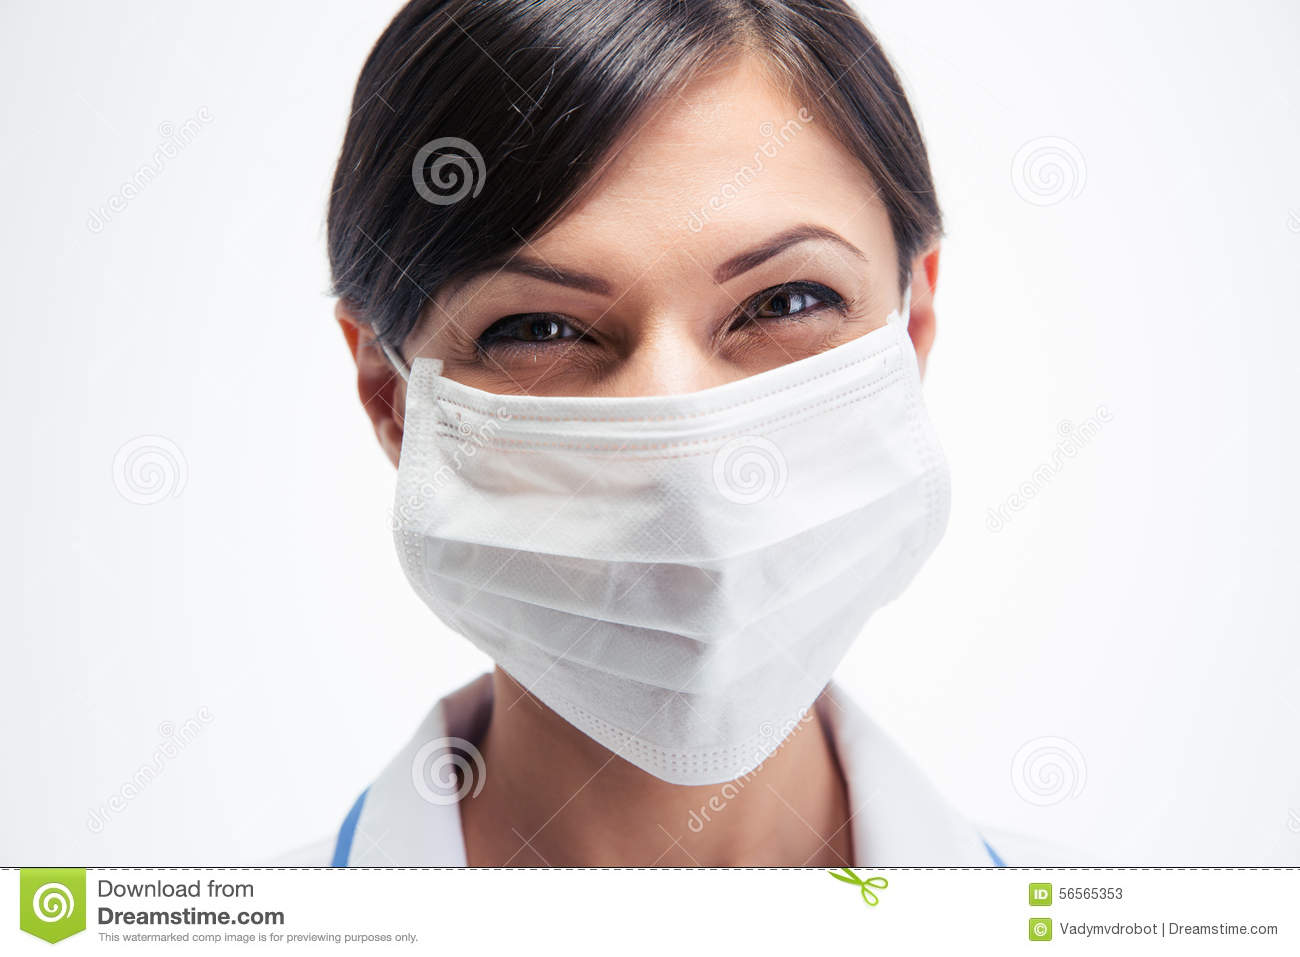mask: (378, 335, 969, 783)
